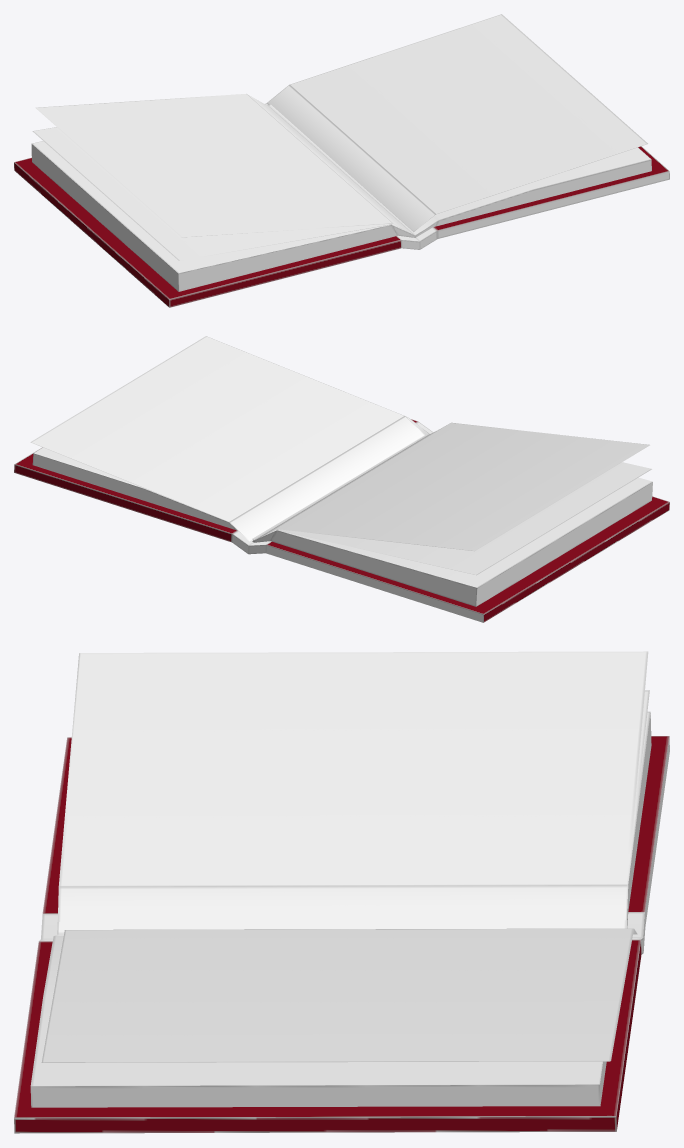
Rendered from book.obj.
The picture shows the model from 3 angles, top to bottom: view 1: azimuth 30°, elevation 25°; view 2: azimuth 150°, elevation 25°; view 3: azimuth 270°, elevation 25°; orthographic projection. The views are drawn at different scales.
Visible parts, largest first — view 1: polySurface31; view 2: polySurface31; view 3: polySurface31.
Part boxes in pixels (left/top/right/bottom): polySurface31: left=14, top=14, right=669, bottom=307; polySurface31: left=14, top=336, right=669, bottom=622; polySurface31: left=14, top=651, right=669, bottom=1133.
Bounding box in the file's own units: 0.9254 × 0.1274 × 0.5947.
1 material, 1 textured.
